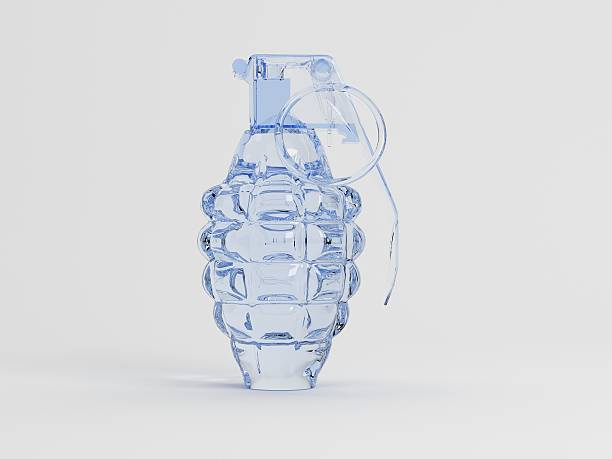e1: (199, 51, 404, 395)
